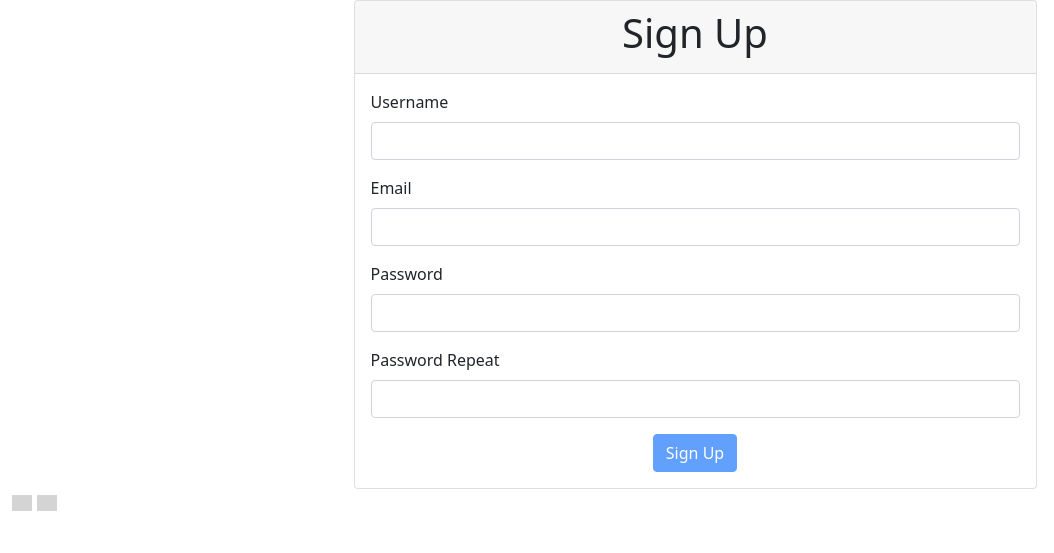
Test: Sign Up Page › Interactions › displays Email cannot be null for email
Type "ashish kapoor" into the field labelled "Username". click: (695, 141)
box: [370,122,1020,160]
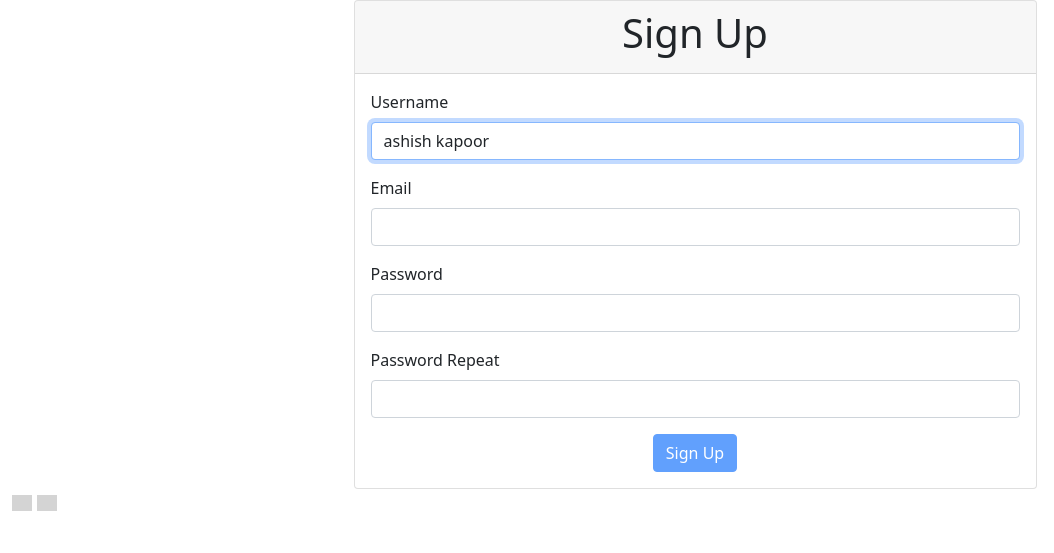
Type "ashish@kapoor.com" into the field labelled "Email". click: (695, 227)
box: [370,208,1020,246]
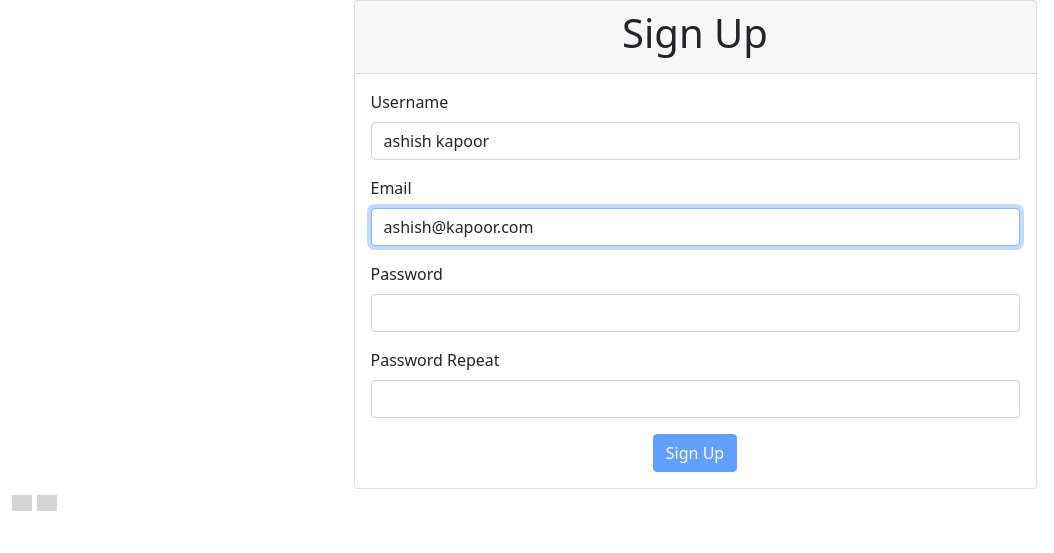
Type "P4ssword" into the password field labelled "Password". click: (695, 313)
box: [370,294,1020,332]
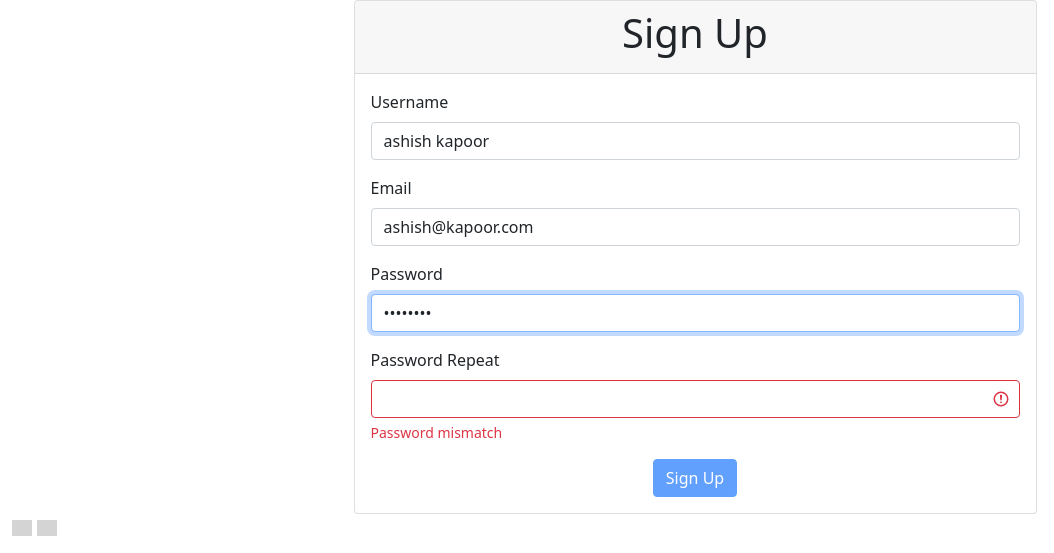
Type "P4ssword" into the password field labelled "Password Repeat". click: (695, 399)
box: [370,380,1020,418]
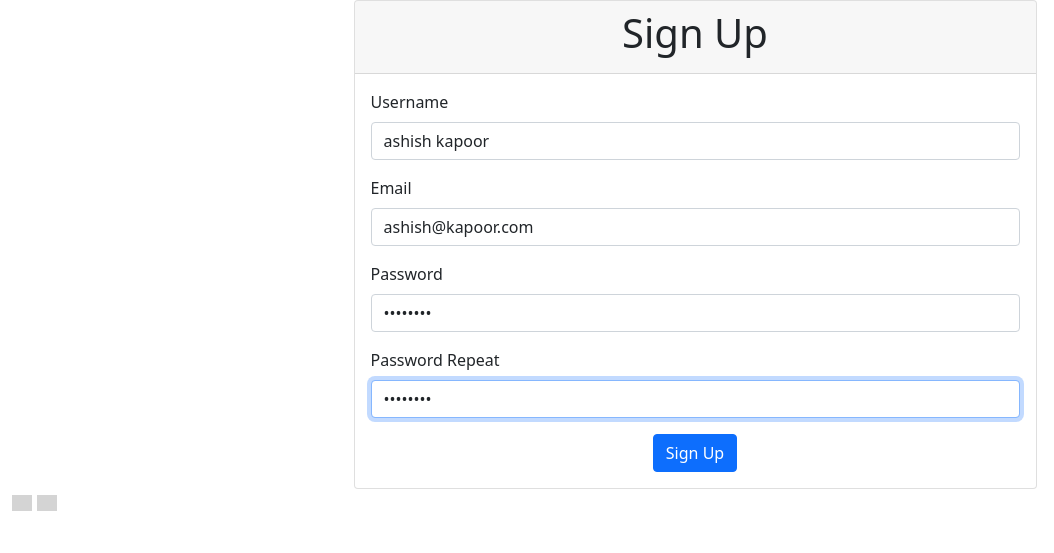
Click the button. click: (695, 453)
box: [653,434,737,472]
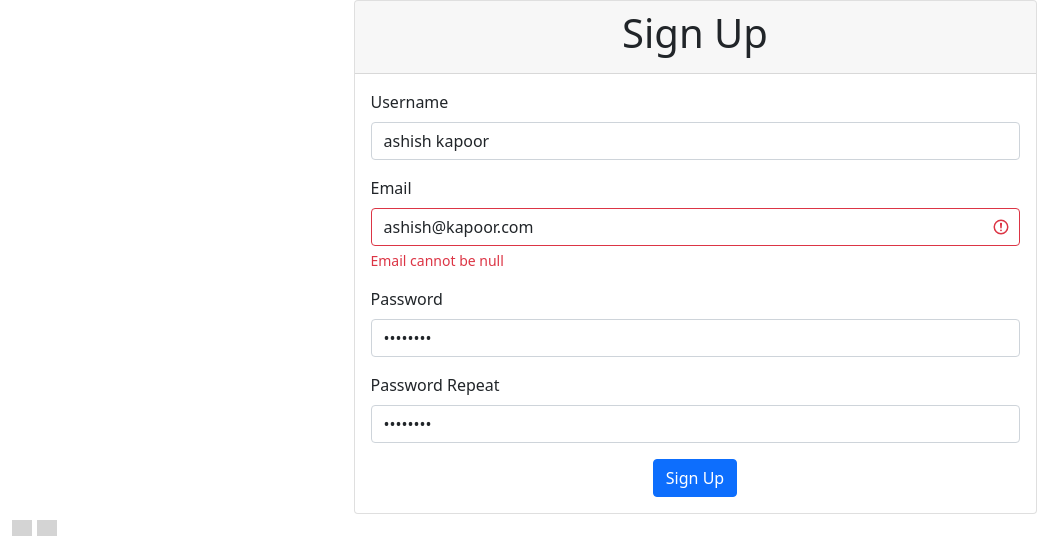
Expected: the text "Email cannot be null" is shown, [370,251,504,270]
